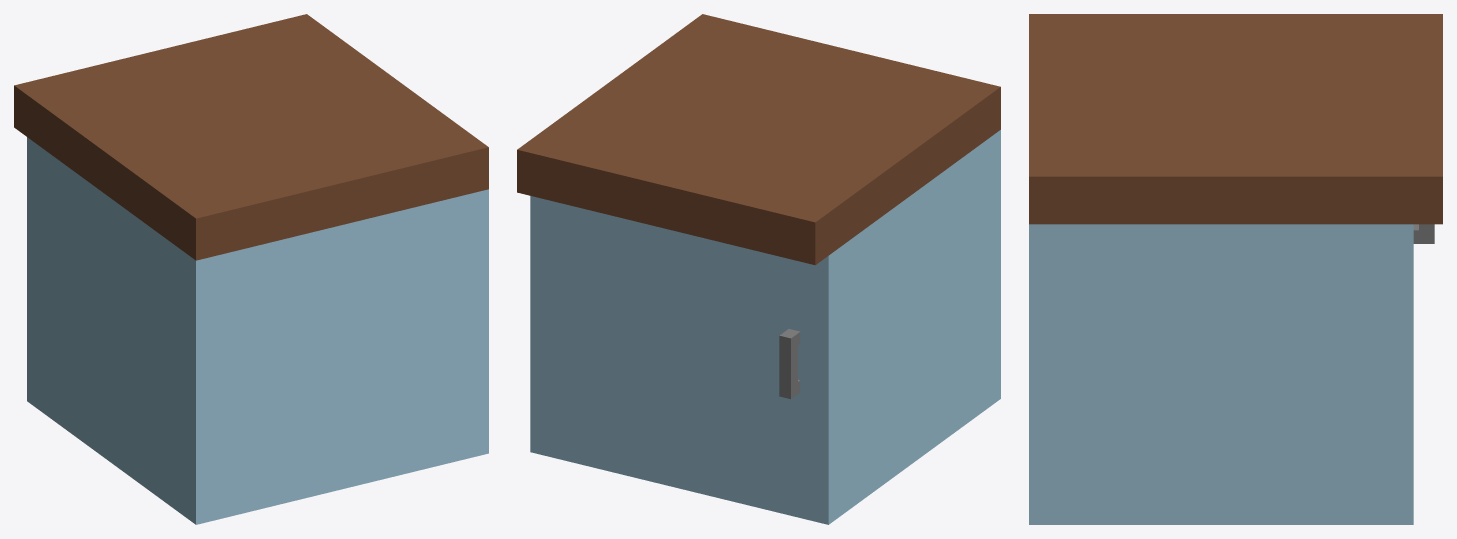
The model's file is Counter.fbx.
3 renders of one model, left to right at view 1: azimuth 30°, elevation 25°; view 2: azimuth 150°, elevation 25°; view 3: azimuth 270°, elevation 25°, orthographic. The views are drawn at different scales.
Parts seen in each view (by area): view 1: Cube; view 2: Cube, Cube.001; view 3: Cube.
Boxes of the visible parts, left/top/right/bottom form: Cube: left=14, top=14, right=488, bottom=524; Cube: left=517, top=14, right=1000, bottom=524; Cube.001: left=779, top=329, right=800, bottom=399; Cube: left=1029, top=14, right=1442, bottom=524.
Size of the model in its own units: 200 by 200 by 215.
